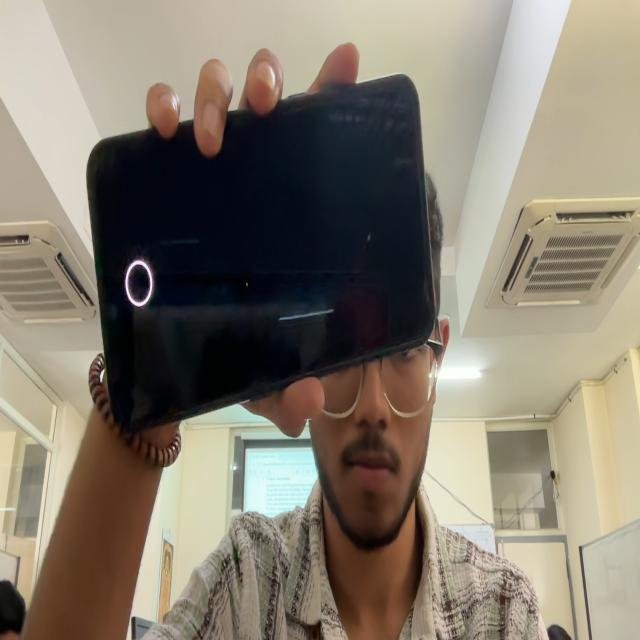Useful: (87, 75, 439, 433)
